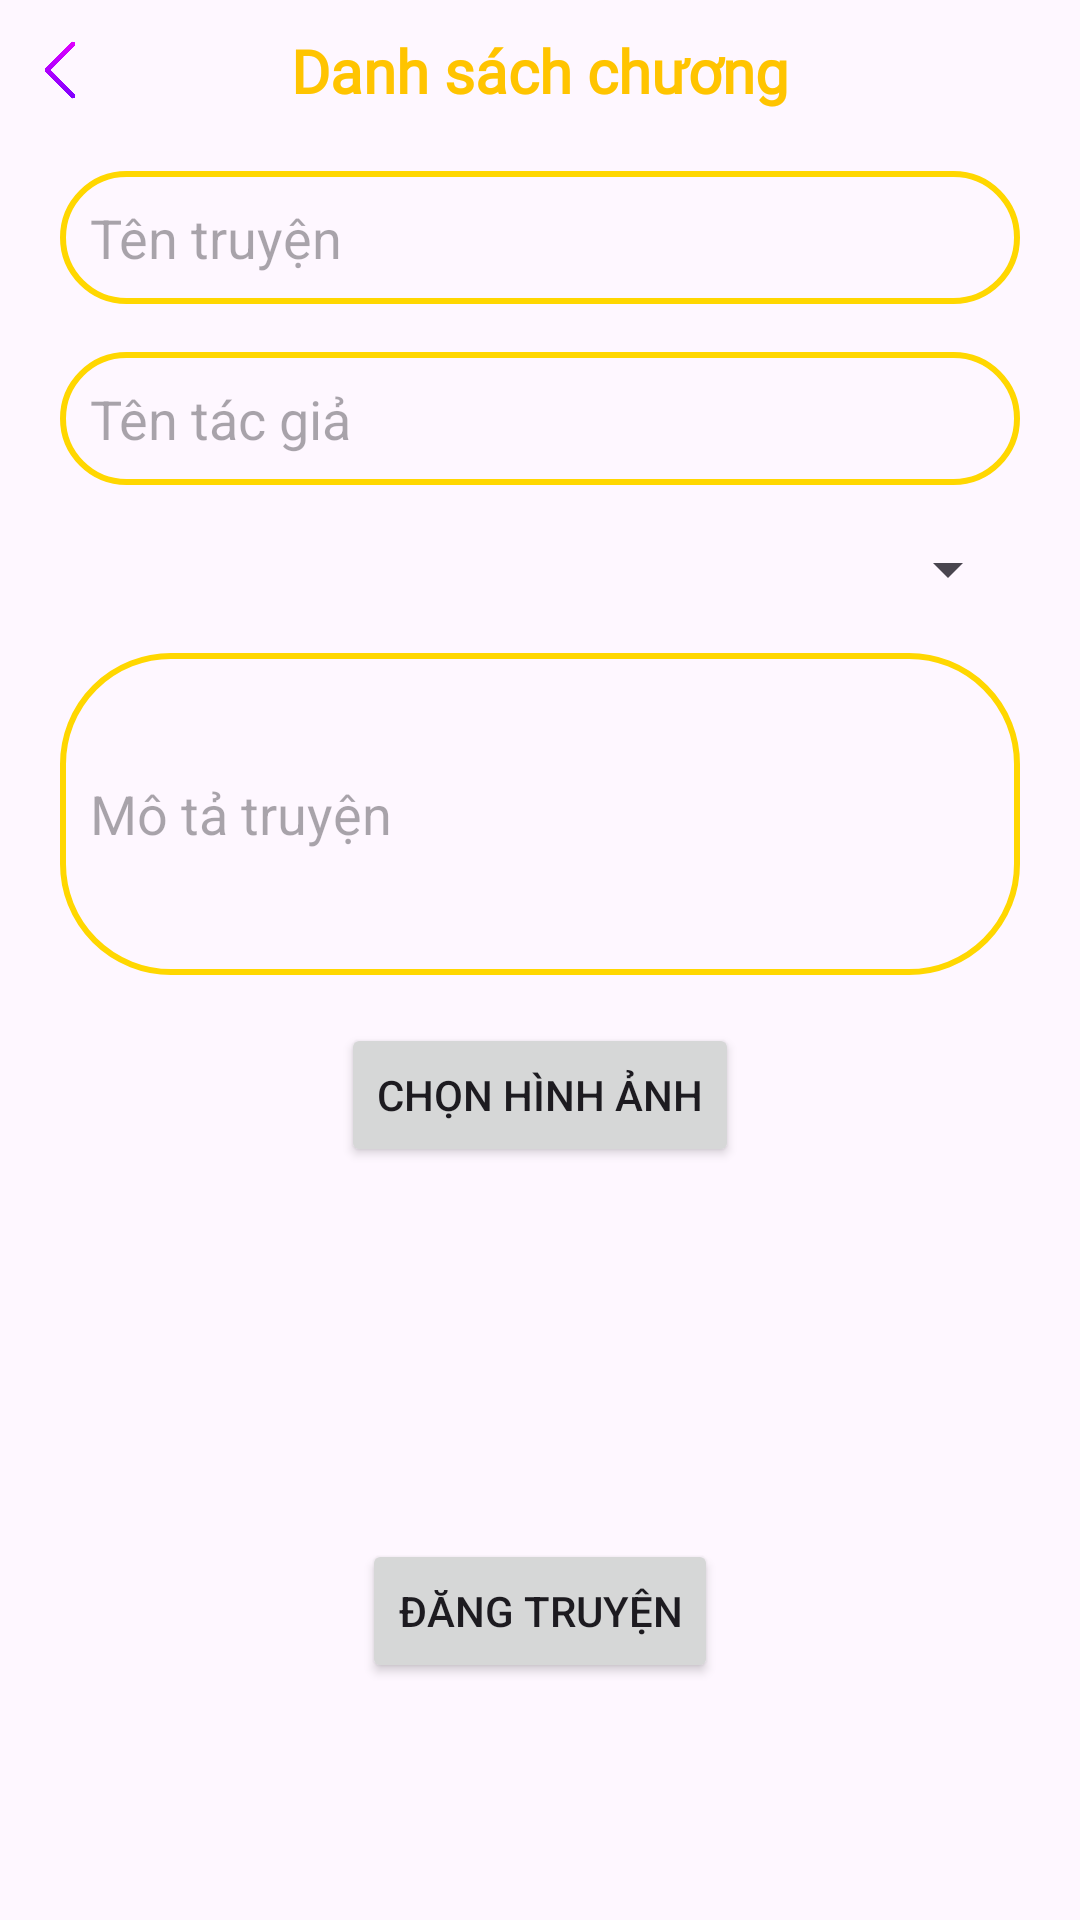

Locate icon controls on the screen. Image size 1080 x 1920, boxes as detection(x1, y1, x2, y2).
left: detection(45, 42, 75, 99)
